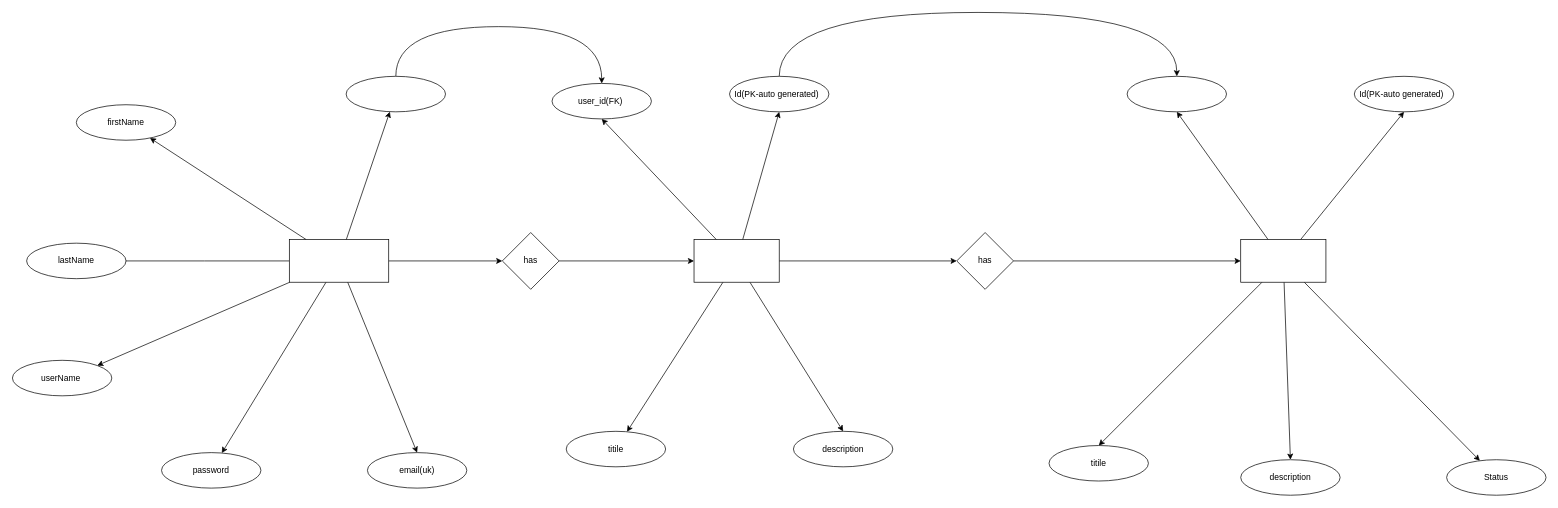
Image size: 1558x508. Some labels were removed from this diagram. The centre of each missing label's shape, as x and y in pixels:
"Id(PK)" goes at (x=395, y=94).
"Project" goes at (x=736, y=260).
"project_id(FK)" goes at (x=1176, y=94).
"Task" goes at (x=1283, y=260).
"user" goes at (x=339, y=260).
